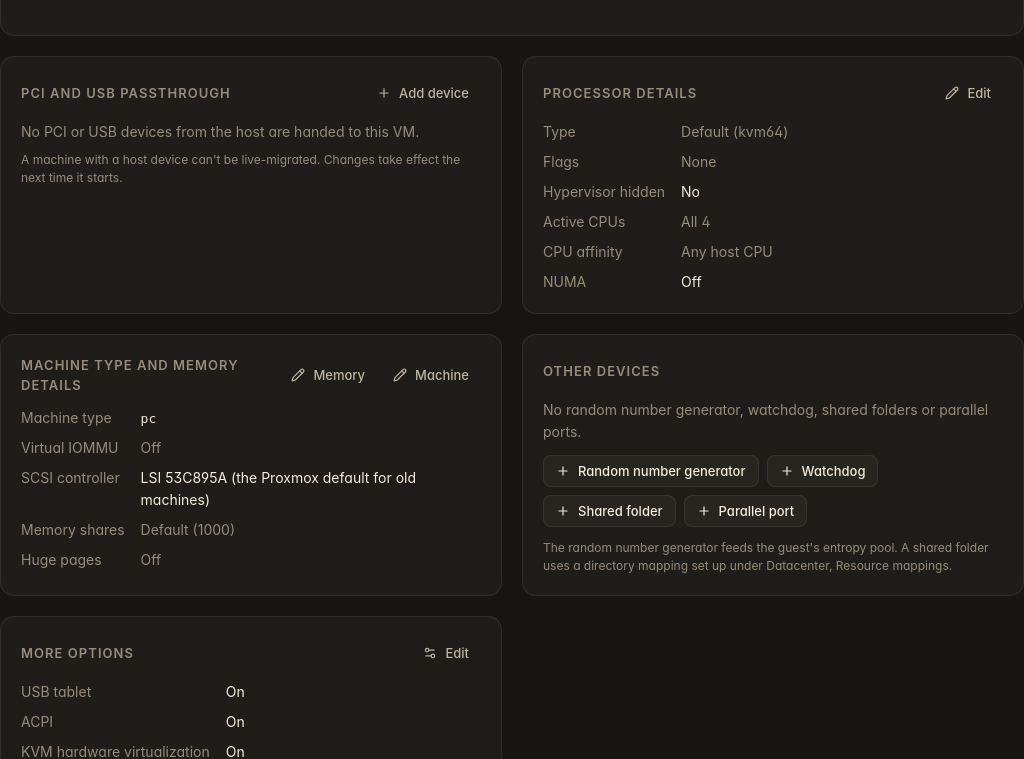
Test: hardware: processor, machine type, devices and options (GU-021 to GU-027, GU-046 to GU-048, GU-070 to GU-075) › sets the machine type and SCSI controller, and warns about the layout change
The image size is (1024, 759).
(page scrolled)
Click the button "Machine": (431, 375) [381,359,481,391]
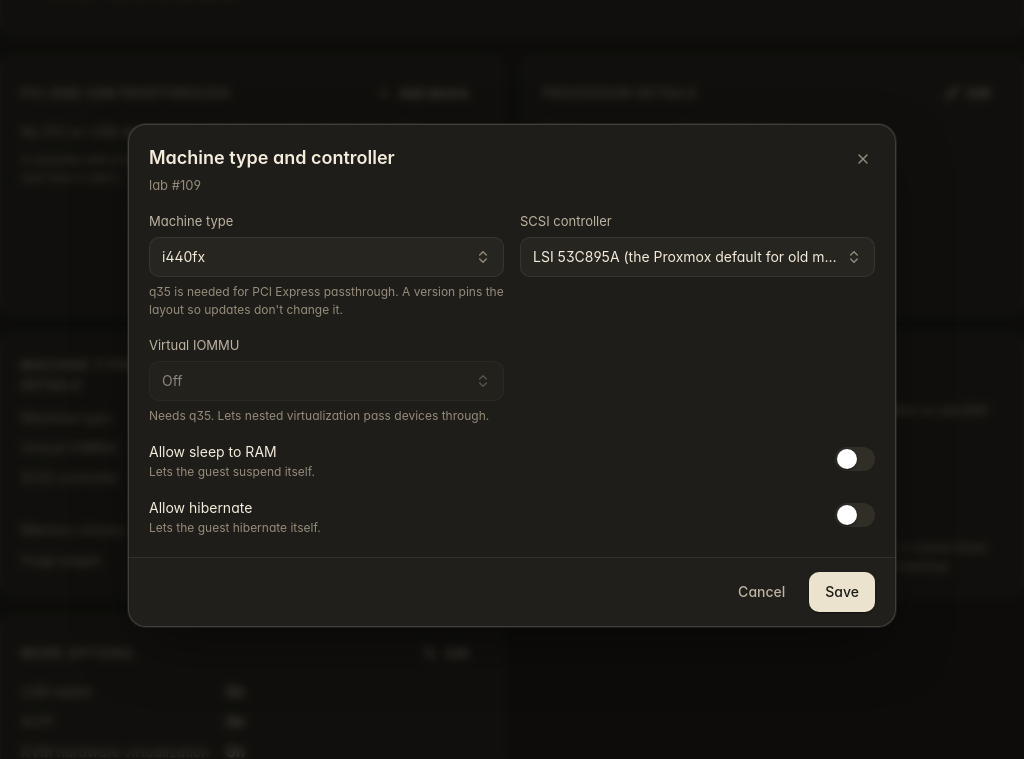
Select "q35 (modern PCI Express layout)" in the dropdown labelled "Machine type": (326, 264) [149,210,504,318]
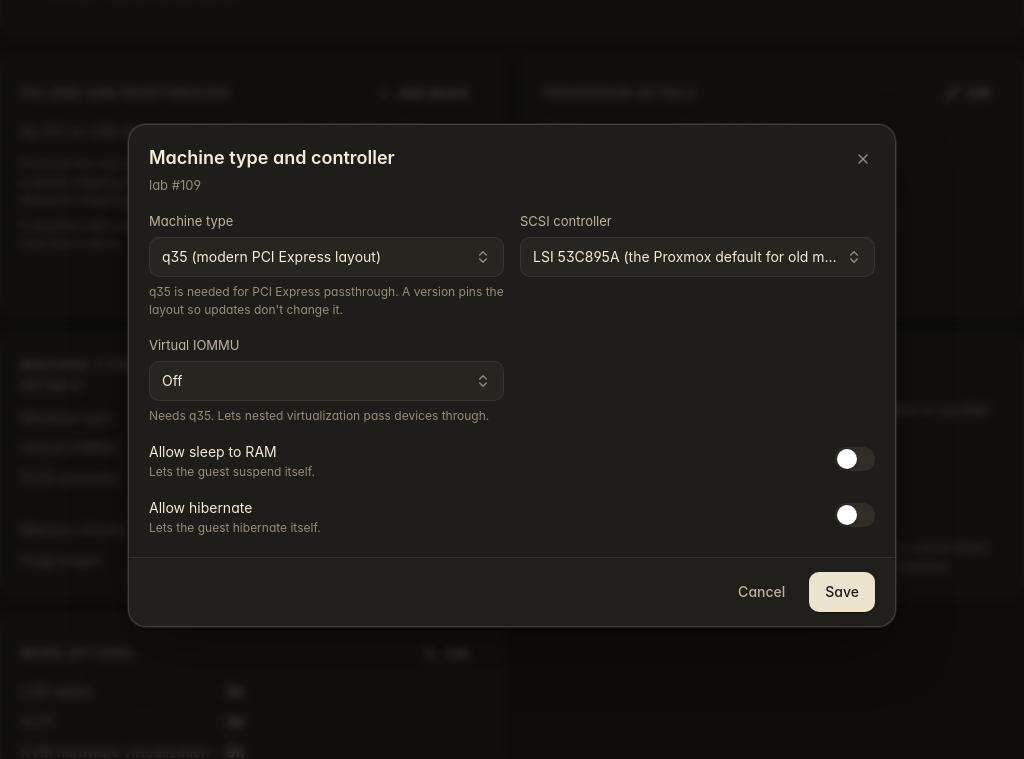
Select "VirtIO SCSI single (best for most; one controller per disk)" in the dropdown labelled "SCSI controller": (698, 244) [520,212,875,276]
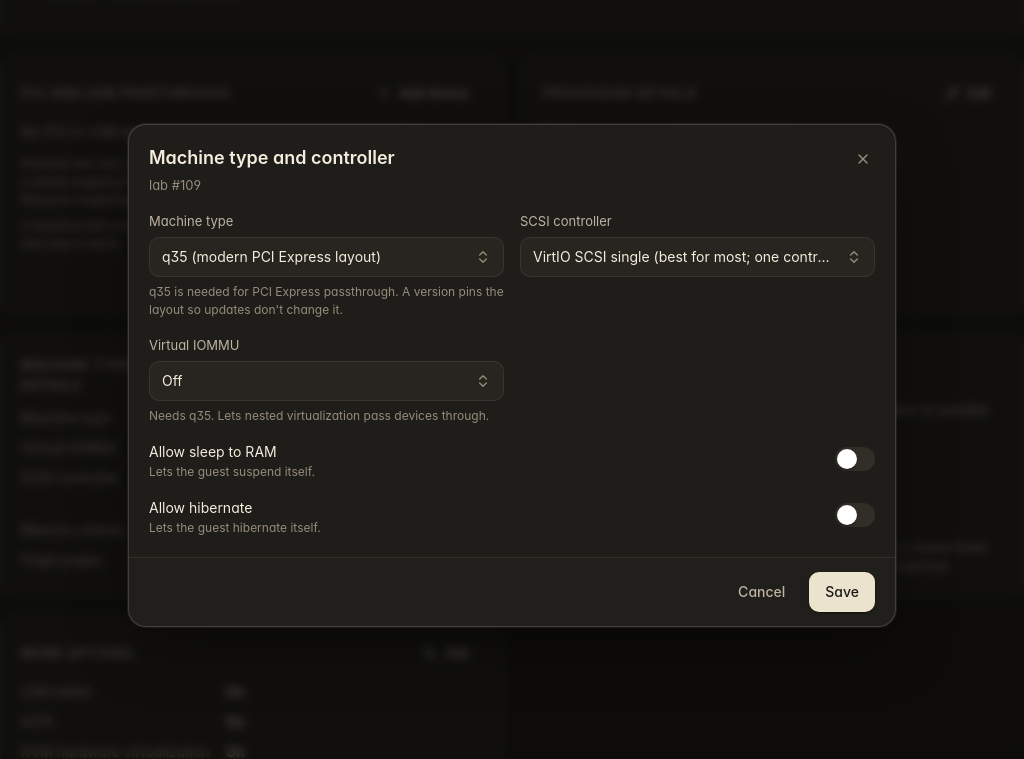
Click the button "Save": (842, 592) [809,572,875,612]
(page scrolled)
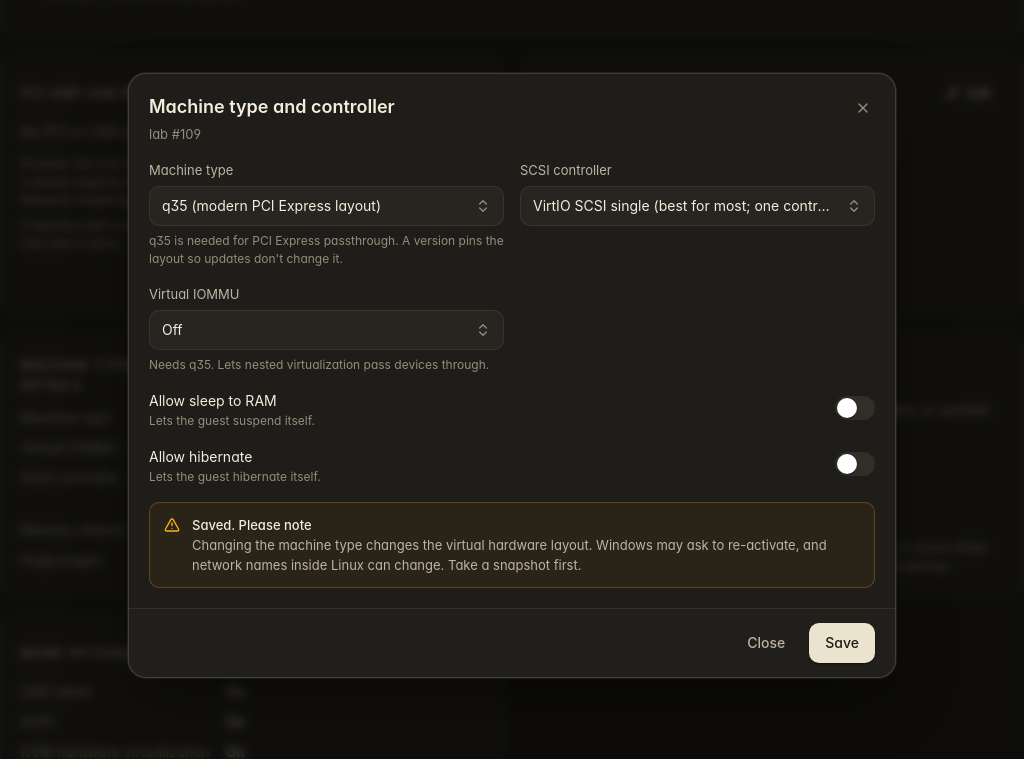
Result: the text "changes the virtual hardware layout" is shown at [192,536,827,572]
Result: the text "q35" is shown at [141,411,164,426]
Result: the text "VirtIO SCSI single" is shown at [141,469,480,508]
